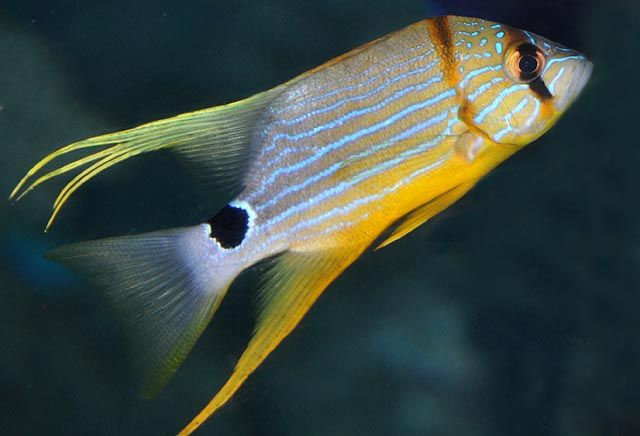fish: (8, 14, 595, 436)
